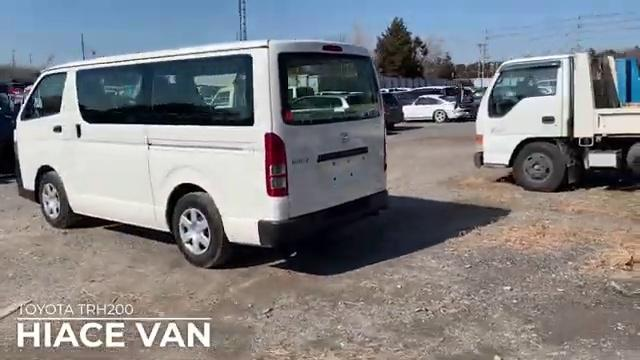Van: (21, 41, 390, 264)
